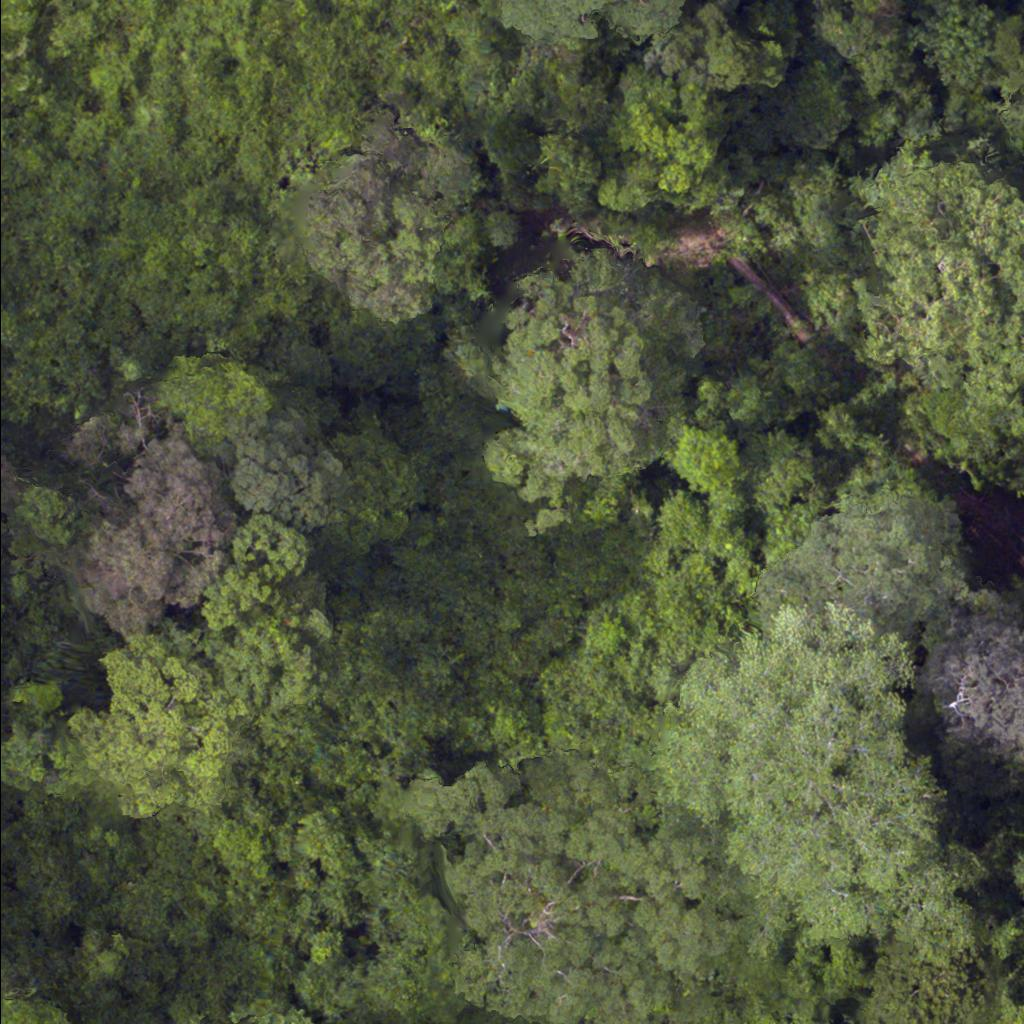crown: (643, 595, 978, 962), (378, 755, 740, 1023), (39, 517, 345, 809), (814, 142, 1023, 452), (480, 233, 692, 523), (293, 102, 488, 328), (90, 410, 235, 626), (757, 476, 971, 620), (838, 918, 1009, 1023), (924, 592, 1023, 759), (319, 436, 416, 561), (234, 412, 340, 526), (185, 970, 307, 1023), (0, 990, 82, 1023), (0, 464, 13, 504)
